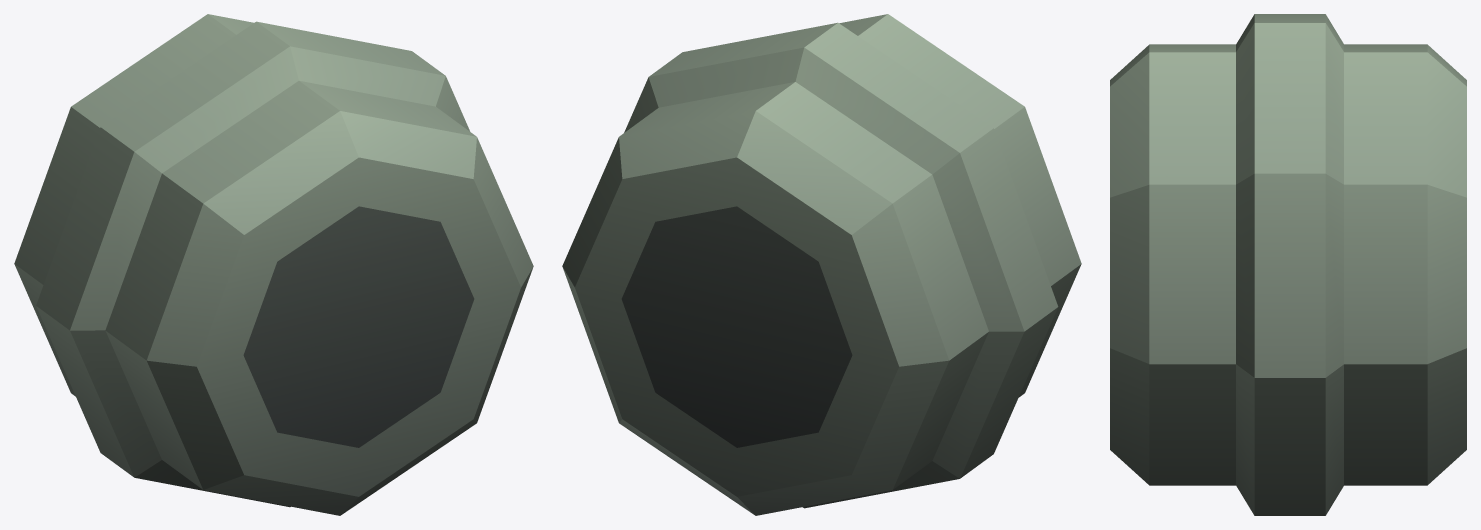
File: decor_012.fbx
3 renders of one model, left to right at view 1: azimuth 30°, elevation 25°; view 2: azimuth 150°, elevation 25°; view 3: azimuth 270°, elevation 25°, orthographic. The views are drawn at different scales.
Visible parts, largest first — view 1: decor.012; view 2: decor.012; view 3: decor.012.
Part boxes in pixels (<box>): decor.012: <box>14,14,533,515</box>; decor.012: <box>562,14,1081,515</box>; decor.012: <box>1110,14,1466,515</box>.
Size of the model in its own units: 20.01 by 20.01 by 13.37.
